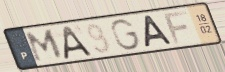9: (86, 22, 112, 55)
A: (62, 24, 94, 61), (143, 14, 175, 49)
F: (162, 9, 190, 46)
G: (110, 18, 143, 52)
M: (24, 28, 65, 63)
